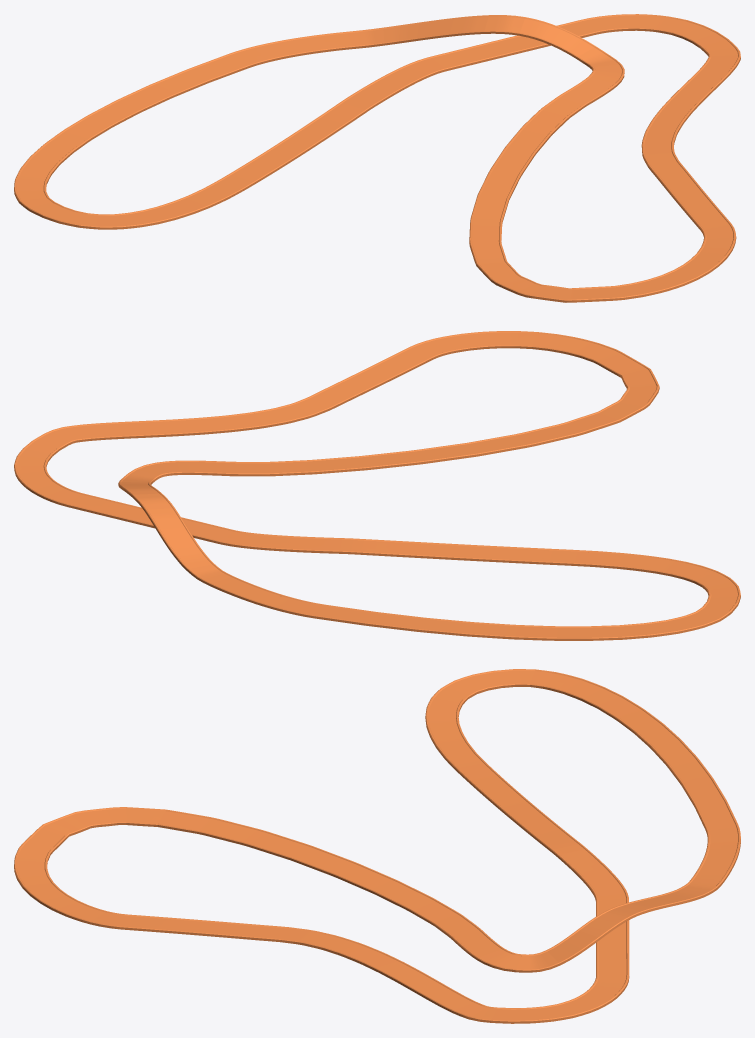
Rendered from Pista.fbx.
The picture shows the model from 3 angles, top to bottom: view 1: azimuth 30°, elevation 25°; view 2: azimuth 150°, elevation 25°; view 3: azimuth 270°, elevation 25°; orthographic projection. The views are drawn at different scales.
Parts seen in each view (by area): view 1: Cube.001; view 2: Cube.001; view 3: Cube.001.
Boxes of the visible parts, x1,y1,x2,y2 form: Cube.001: [14, 14, 740, 302]; Cube.001: [14, 331, 740, 640]; Cube.001: [14, 669, 740, 1023].
Size of the model in its own units: 5468 by 214 by 4771.
